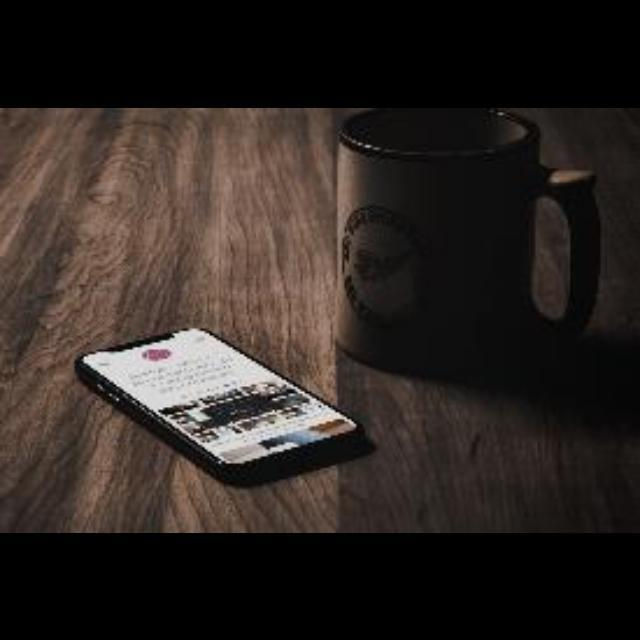Phone: (74, 318, 368, 492)
